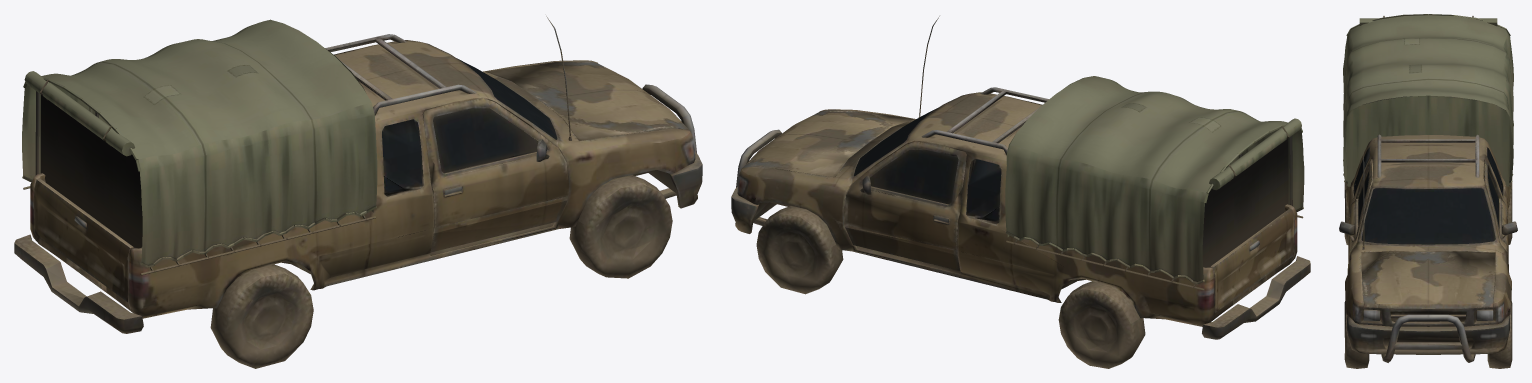
File: fh_battle_e_convoy_pickup_tent.glb
3 views of the same model, side by side, from view 1: azimuth 30°, elevation 25°; view 2: azimuth 150°, elevation 25°; view 3: azimuth 270°, elevation 25° (orthographic). The views are drawn at different scales.
Parts seen in each view (by area): view 1: convoy_pickup_tent, tent, wheel_1r, wheel_fr; view 2: convoy_pickup_tent, tent, wheel_1l, wheel_fl; view 3: convoy_pickup_tent, tent, wheel_fl, wheel_fr, wheel_1l, wheel_1r.
Boxes of the visible parts, x1,y1,x2,y2 form: convoy_pickup_tent: [14, 16, 702, 333]; tent: [22, 19, 377, 275]; wheel_1r: [210, 264, 313, 368]; wheel_fr: [569, 175, 672, 278]; convoy_pickup_tent: [731, 16, 1310, 339]; tent: [1005, 76, 1304, 290]; wheel_1l: [1058, 281, 1145, 368]; wheel_fl: [756, 206, 843, 294]; convoy_pickup_tent: [1339, 109, 1517, 362]; tent: [1343, 14, 1513, 189]; wheel_fl: [1487, 301, 1512, 368]; wheel_fr: [1344, 301, 1369, 368]; wheel_1l: [1508, 190, 1512, 244]; wheel_1r: [1344, 190, 1348, 244].
Size of the model in its own units: 1 by 0.4349 by 0.3618.
3 materials, 3 textured.
